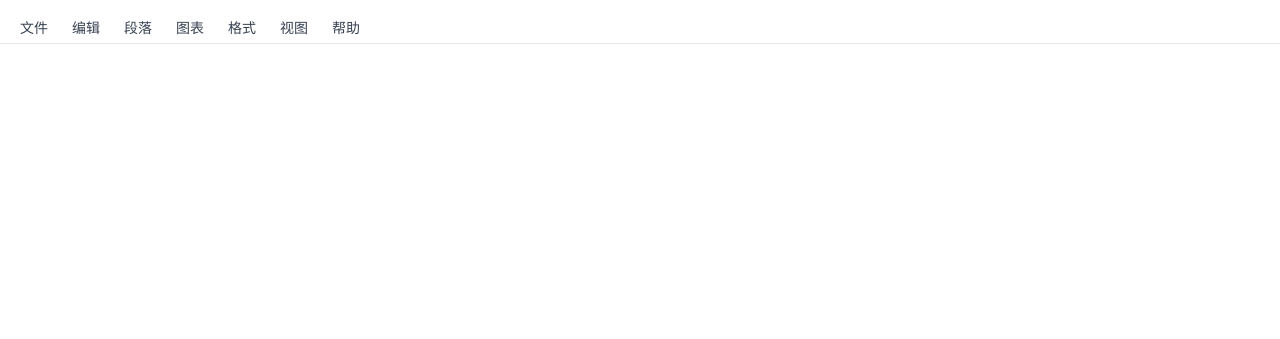
Scenario: MenuBar › 点击格式菜单展开下拉
Click the button "格式": (242, 28) [216,14,268,42]
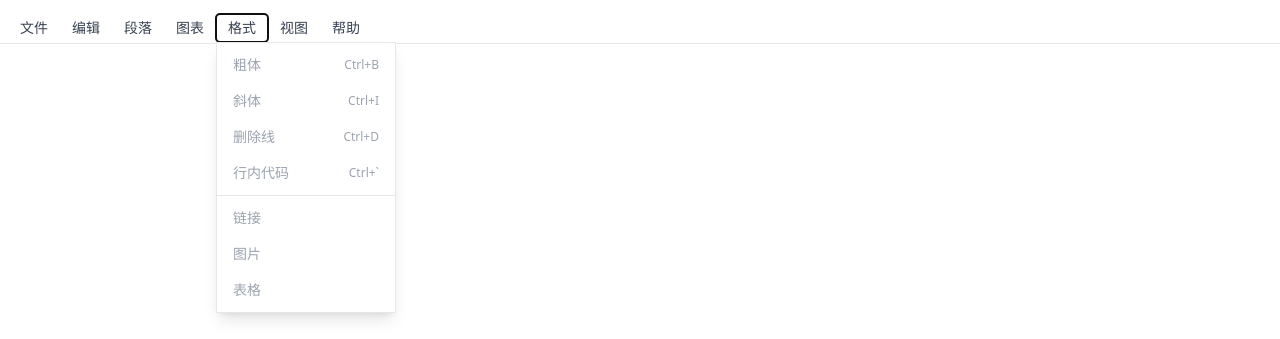
expect the text "粗体" is shown: met, box [233,54,261,74]
expect the text "斜体" is shown: met, box [233,90,261,110]
